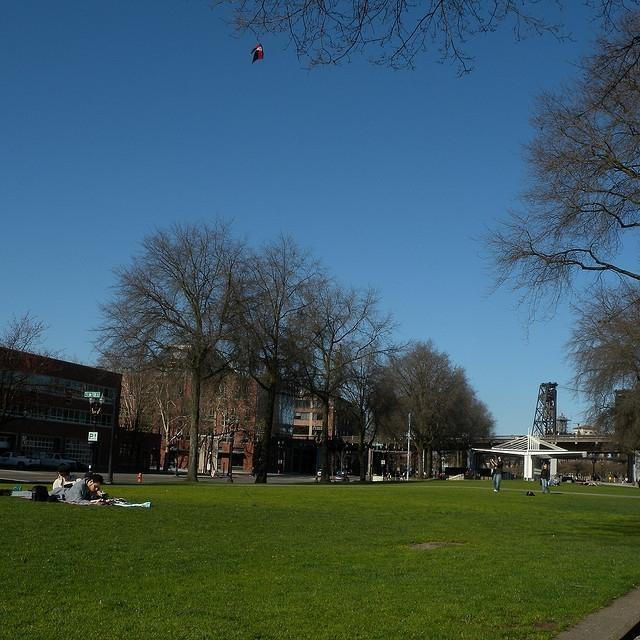truck: (40, 452, 76, 472)
